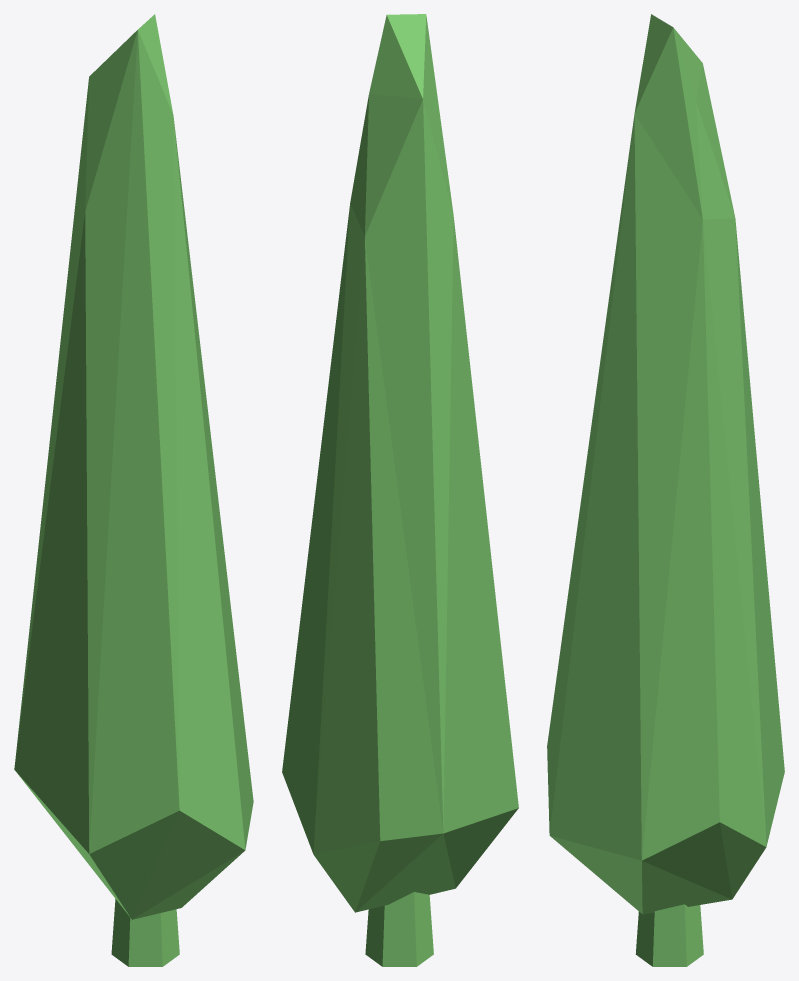
Rendered from roman cypress1.fbx.
3 views of the same model, side by side, from view 1: azimuth 30°, elevation 25°; view 2: azimuth 150°, elevation 25°; view 3: azimuth 270°, elevation 25° (orthographic).
Parts seen in each view (by area): view 1: Roman Cypress; view 2: Roman Cypress; view 3: Roman Cypress.
Part boxes in pixels (box(x1,y1,x2,y2)): Roman Cypress: box(14, 14, 253, 966); Roman Cypress: box(282, 14, 518, 966); Roman Cypress: box(547, 14, 784, 966).
Size of the model in its own units: 429 by 2110 by 488.
